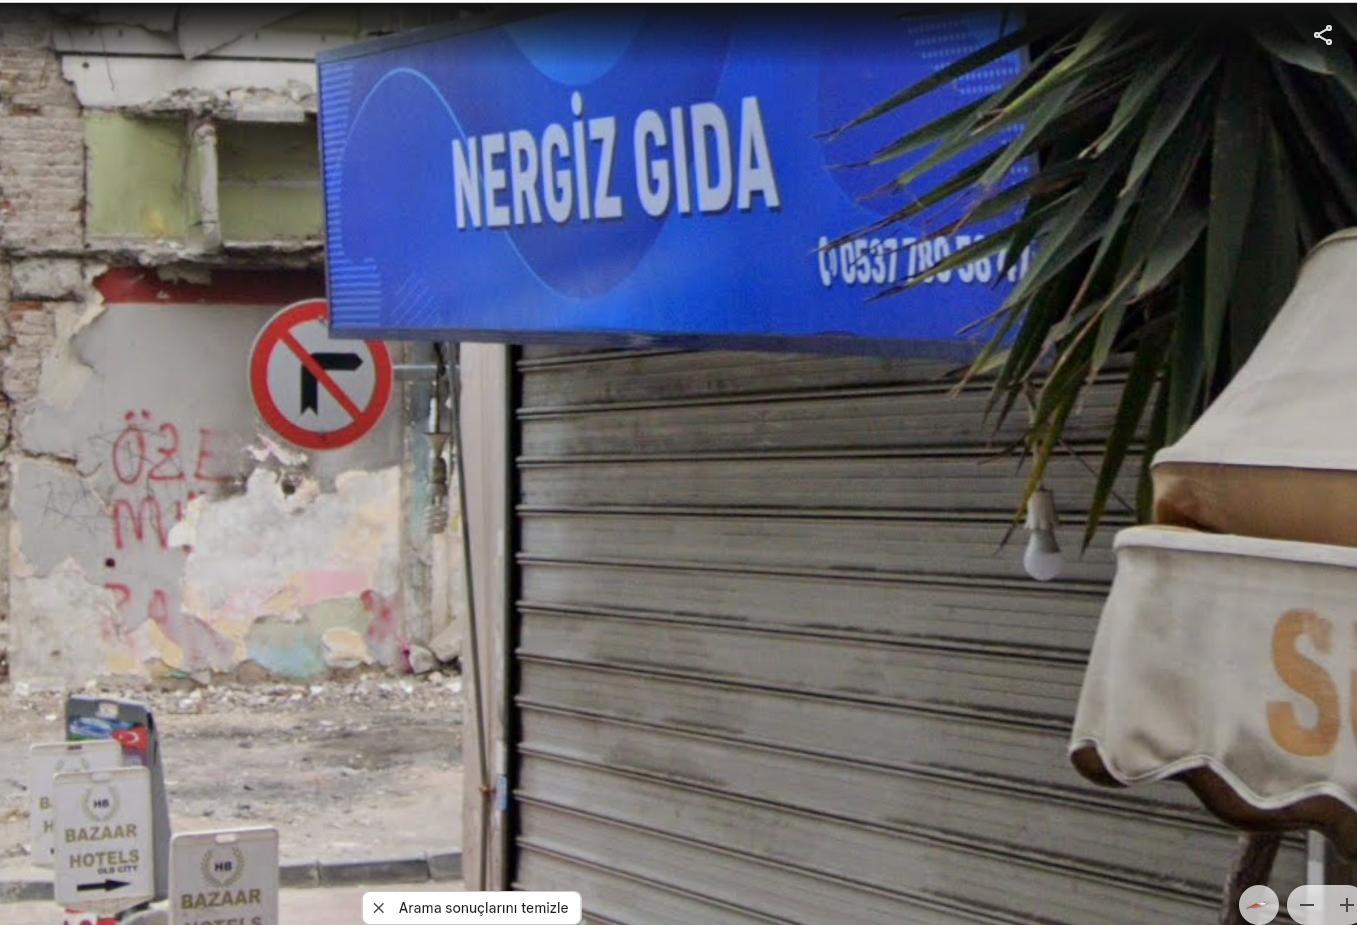rightturnsareforbidden: (258, 301, 382, 431)
